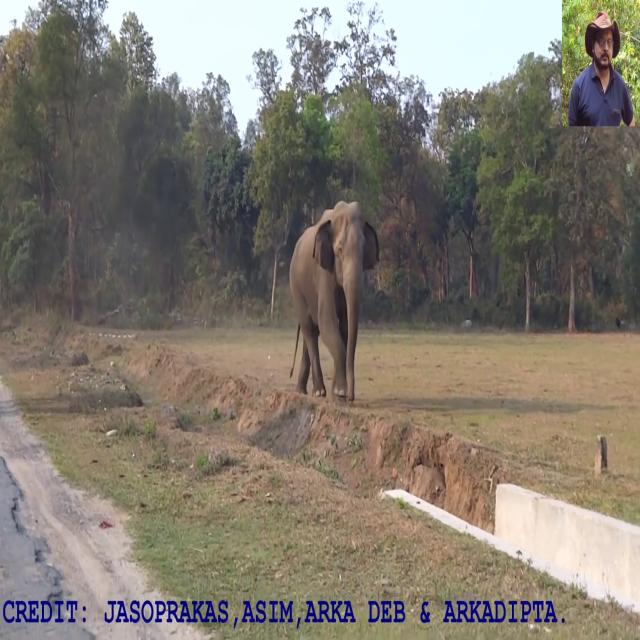Elephant: (288, 199, 380, 403)
